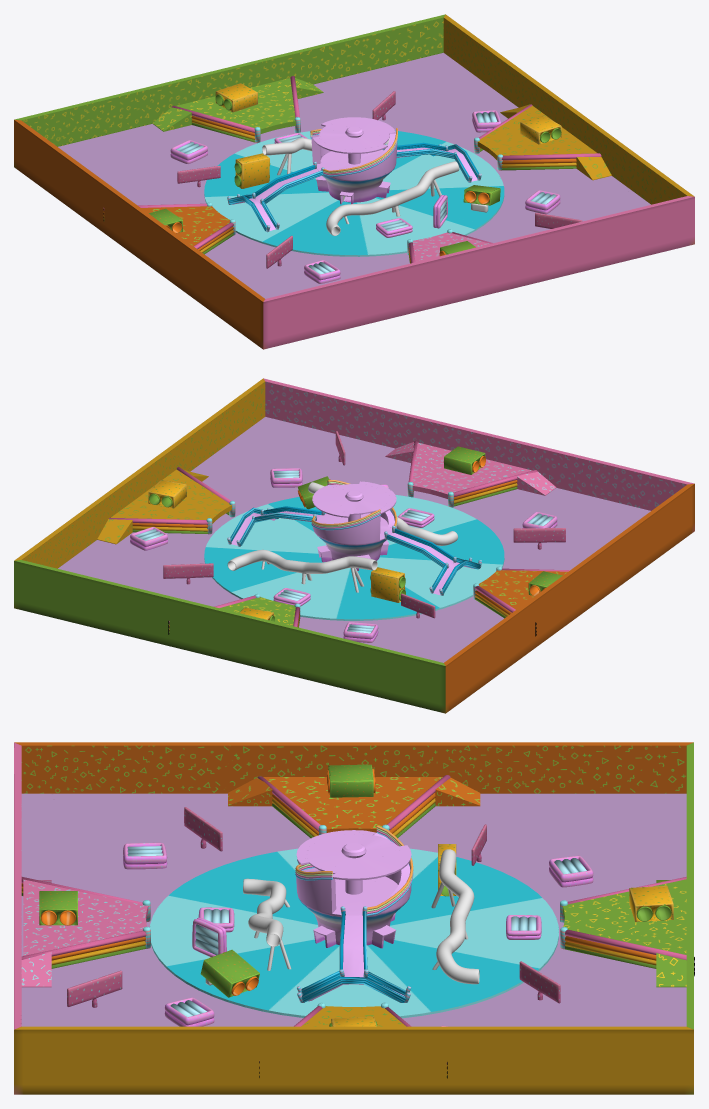
The model's file is arenaUusiTesti.fbx.
3 renders of one model, top to bottom at view 1: azimuth 30°, elevation 25°; view 2: azimuth 150°, elevation 25°; view 3: azimuth 270°, elevation 25°, orthographic. The views are drawn at different scales.
Visible parts, largest first — view 1: FallsFloor, CenterCylinder, CenterBuilding, Fences, Pipe1, BridgeFence2, TunnelBox6, BridgeFence2.001, TunnelBox1, TunnelBox3, Pipe2, Patja6 (+8 smaller); view 2: FallsFloor, CenterCylinder, CenterBuilding, Fences, Pipe2, BridgeFence2, TunnelBox6, BridgeFence2.001, TunnelBox5, TunnelBox3, Cube.007, Pipe1 (+5 smaller); view 3: FallsFloor, CenterCylinder, CenterBuilding, Fences, Pipe2, Pipe1, BridgeFence2.001, TunnelBox4, TunnelBox2, TunnelBox1, TunnelBox5, Cube.006 (+10 smaller).
Boxes of the visible parts, x1,y1,x2,y2 form: FallsFloor: (14, 14, 694, 349); CenterCylinder: (204, 130, 504, 256); CenterBuilding: (232, 117, 477, 230); Fences: (103, 76, 601, 263); Pipe1: (326, 161, 459, 235); BridgeFence2: (228, 165, 323, 230); TunnelBox6: (234, 153, 270, 188); BridgeFence2.001: (396, 142, 478, 181); TunnelBox1: (215, 83, 258, 112); TunnelBox3: (520, 115, 561, 144); Pipe2: (262, 138, 389, 175); Patja6: (170, 140, 207, 163); FallsFloor: (14, 378, 694, 713); CenterCylinder: (204, 495, 504, 620); CenterBuilding: (231, 481, 475, 594); Fences: (109, 441, 569, 636); Pipe2: (227, 549, 377, 592); BridgeFence2: (386, 528, 480, 593); TunnelBox6: (370, 567, 405, 602); BridgeFence2.001: (230, 506, 321, 545); TunnelBox5: (443, 446, 485, 474); TunnelBox3: (148, 479, 186, 508); Cube.007: (513, 528, 565, 549); Pipe1: (308, 482, 458, 545); FallsFloor: (14, 742, 693, 1094); CenterCylinder: (150, 848, 558, 1018); CenterBuilding: (296, 830, 411, 1001); Fences: (21, 775, 694, 1078); Pipe2: (431, 849, 479, 984); Pipe1: (243, 878, 291, 970); BridgeFence2.001: (301, 911, 405, 1002); TunnelBox4: (200, 949, 259, 997); TunnelBox2: (327, 764, 375, 797); TunnelBox1: (629, 885, 673, 921); TunnelBox5: (39, 891, 77, 925); Cube.006: (67, 970, 122, 1007).
Bounding box in the file's own units: 19072 × 3217 × 19063.
